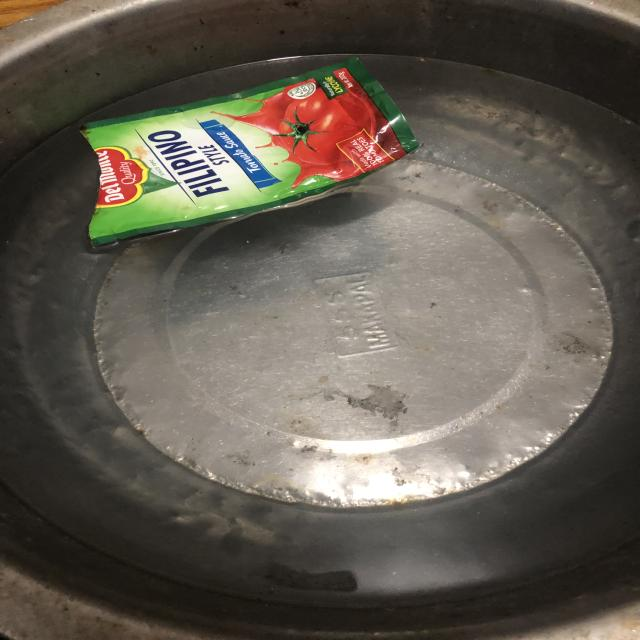Plastic Pouch: (44, 43, 448, 262)
